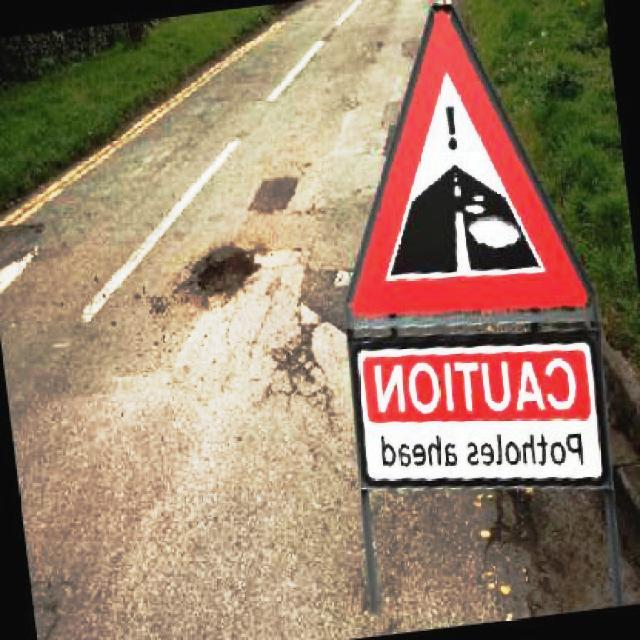pothole: (183, 242, 266, 303)
